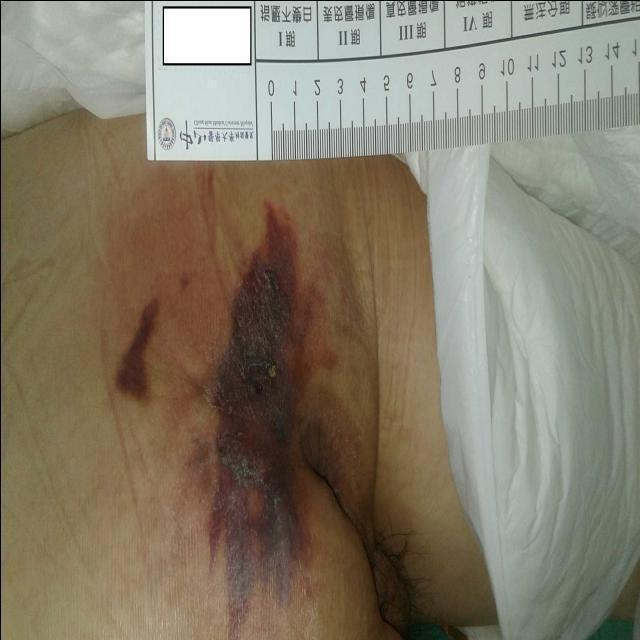DTI: (207, 217, 325, 640), (113, 304, 155, 397)
